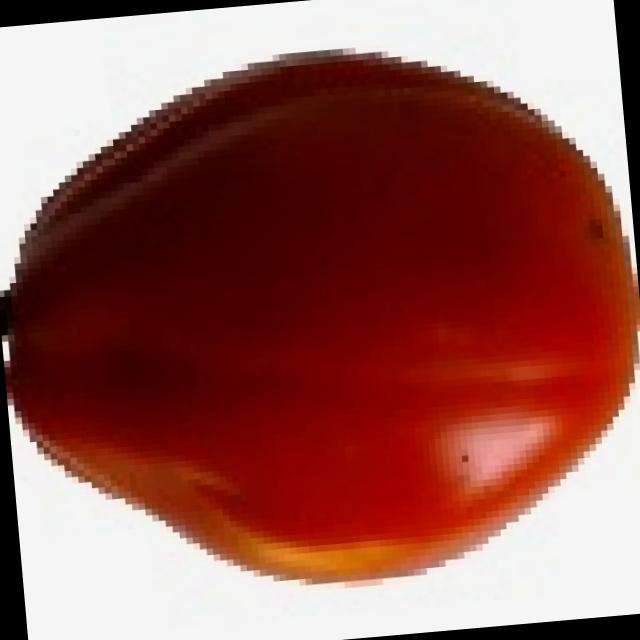tomato: (0, 28, 640, 617)
